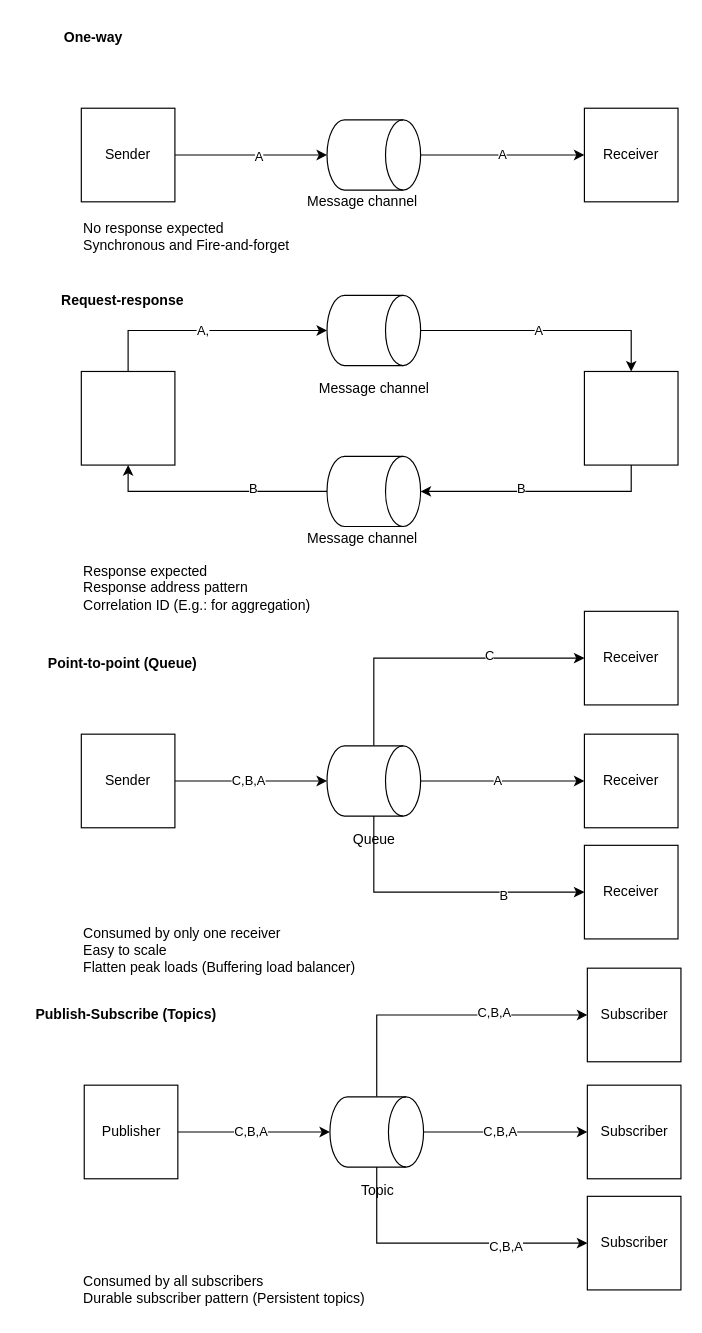
Some shapes in this 702 by 1333 pixel diagram are drawn without their labels. The box of each missing label's shape, as (x1, y1, x2, y2) in pixels:
Requester: (80, 370, 175, 465)
Responder: (583, 370, 678, 465)
